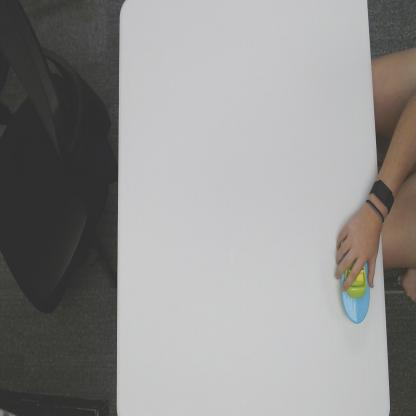Boat: (341, 258, 371, 325)
Hand: (335, 206, 380, 293)
